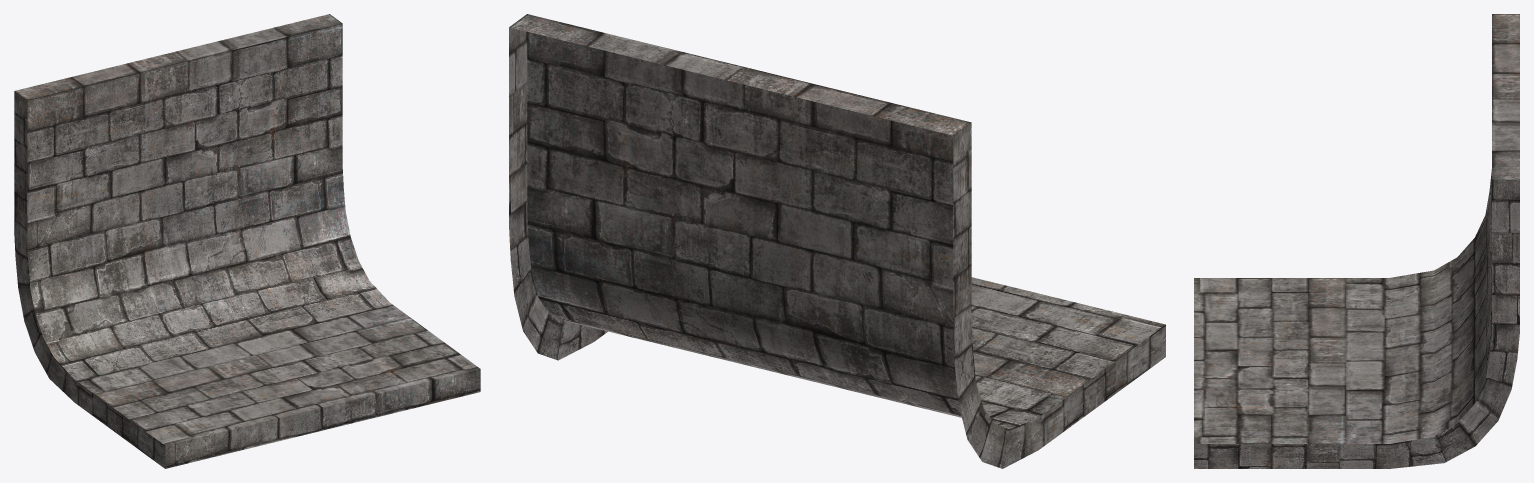
The model's file is CurvedWall_01_Fix.fbx.
3 renders of one model, left to right at view 1: azimuth 30°, elevation 25°; view 2: azimuth 150°, elevation 25°; view 3: azimuth 270°, elevation 25°, orthographic. The views are drawn at different scales.
Visible parts, largest first — view 1: CurvedWall_01_Fix; view 2: CurvedWall_01_Fix; view 3: CurvedWall_01_Fix.
Boxes of the visible parts, x1=… form: CurvedWall_01_Fix: x1=14, y1=14, x2=480, y2=468; CurvedWall_01_Fix: x1=509, y1=14, x2=1165, y2=468; CurvedWall_01_Fix: x1=1194, y1=14, x2=1519, y2=468.
Size of the model in its own units: 547 by 443 by 453.
